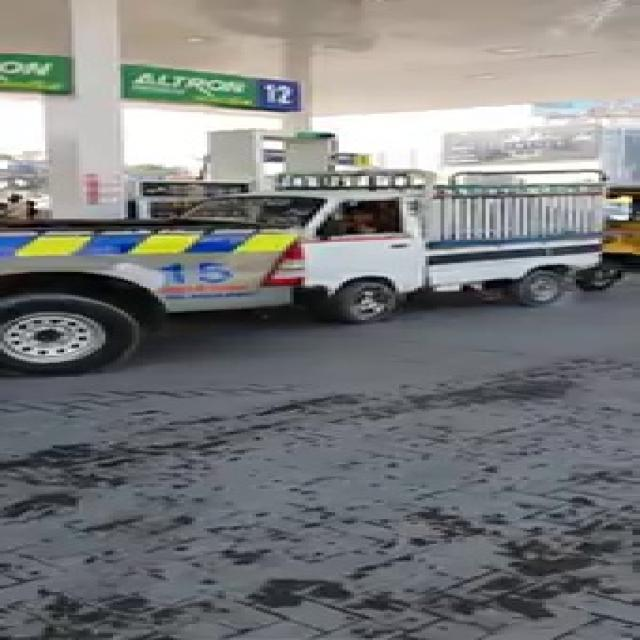police: (0, 162, 409, 447)
